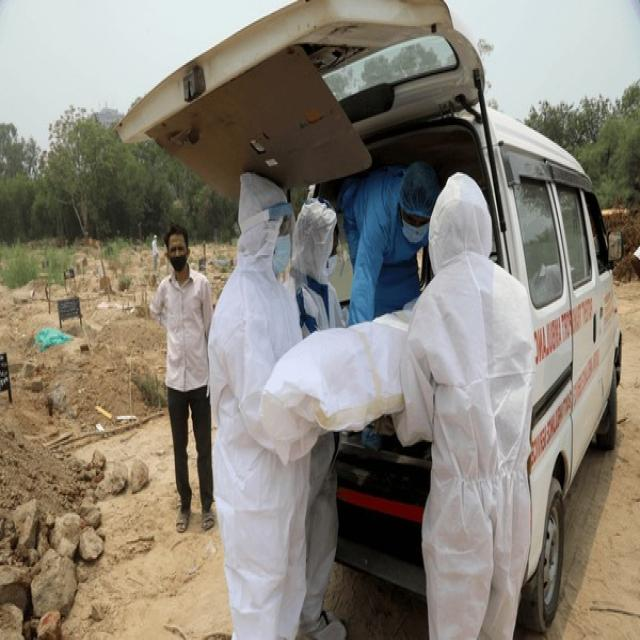emergency: (117, 3, 624, 640)
